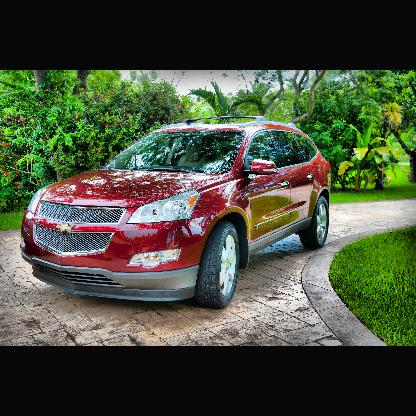Chevrolet Traverse SUV 2012: (21, 118, 332, 311)
